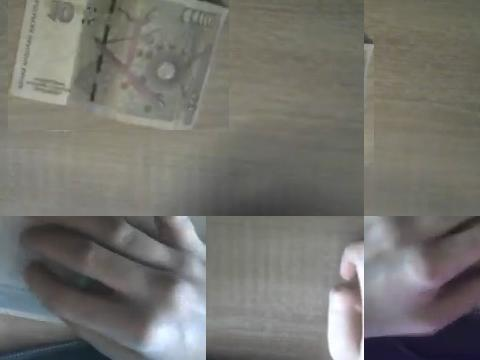10leva: (8, 0, 229, 130)
